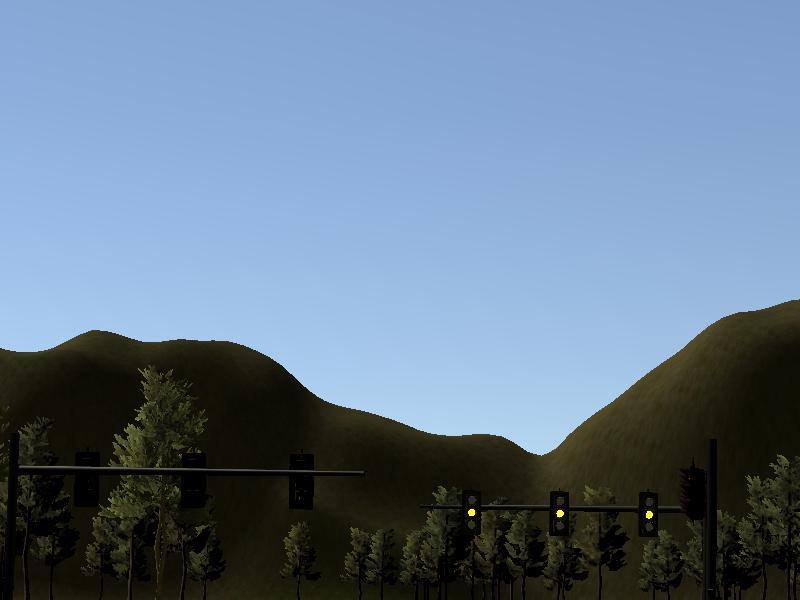Yellow: (550, 490, 568, 537), (639, 491, 657, 536), (462, 490, 480, 535)
